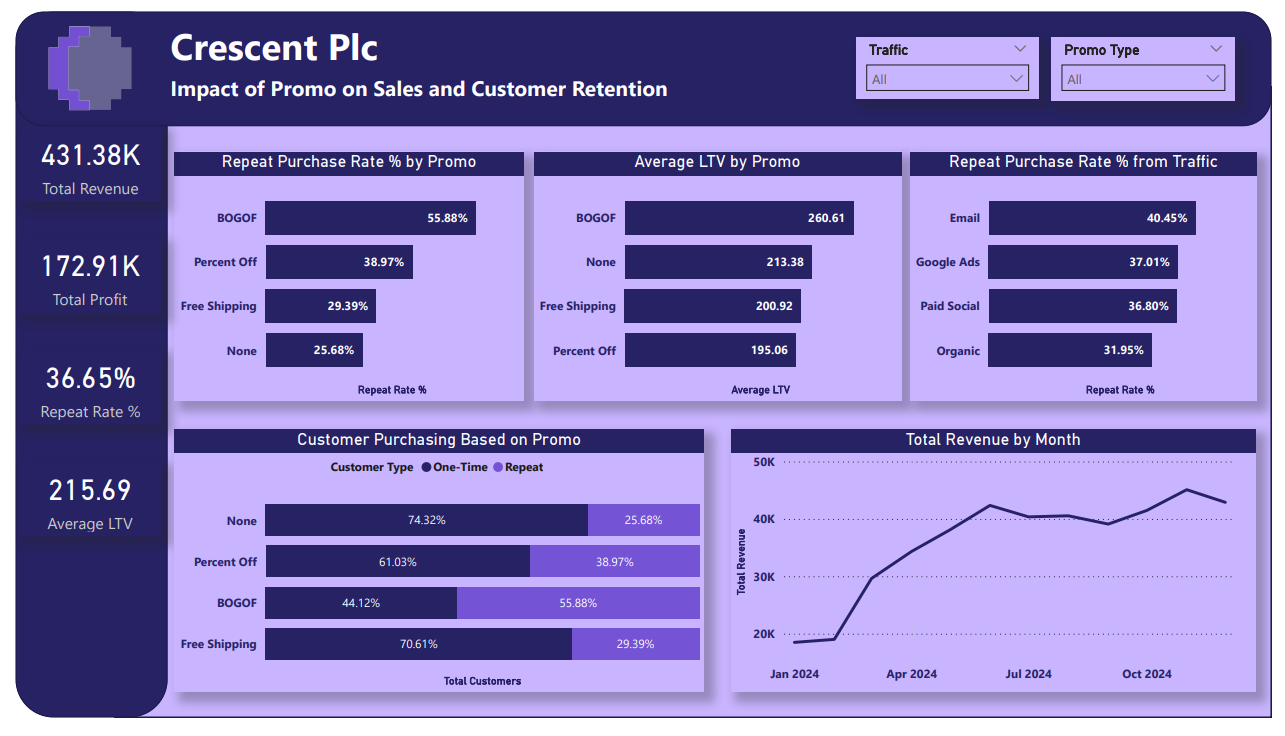

What the dashboard file says about the page in this screenshot:
{"tool":"powerbi","page":{"name":"Crescent Plc Dashboard","canvas":[1280,720],"ordinal":0},"visuals":[{"type":"shape","box":[100.6,76.1,1179.1,644.2],"z":0},{"type":"shape","box":[0,0,154.6,720.2],"z":1000},{"type":"shape","box":[0,0,1279.8,116.6],"z":2000},{"type":"card","fields":{"Values":["Orders.Repeat Rate %"]},"box":[4,343.9,145,77.5],"z":3000},{"type":"card","fields":{"Values":["Orders.Average LTV"]},"box":[2.8,457.7,146.2,77.5],"z":4000},{"type":"clusteredBarChart","title":"Repeat Purchase Rate % by Promo","fields":{"Category":["Customers.AcquisitionPromoType"],"Y":["Orders.Repeat Rate %"]},"box":[162,143.1,355.8,254],"z":5000},{"type":"clusteredBarChart","title":"Average LTV by Promo","fields":{"Category":["Customers.AcquisitionPromoType"],"Y":["Orders.Average LTV"]},"box":[527.6,143.3,375.5,254],"z":6000},{"type":"lineChart","title":"Total Revenue by Month","fields":{"Category":["DateDim.YearMonth"],"Y":["Orders.Total Revenue"]},"box":[728.8,425.8,535,268.7],"z":7000},{"type":"clusteredBarChart","title":"Repeat Purchase Rate % from Traffic","fields":{"Category":["Customers.Channel"],"Y":["Orders.Repeat Rate %"]},"box":[911.7,143.3,353.4,254],"z":8000},{"type":"hundredPercentStackedBarChart","title":"Customer Purchasing Based on Promo","fields":{"Category":["Customers.AcquisitionPromoType"],"Series":["Customers.Customer Type"],"Y":["Orders.Total Customers"]},"box":[162,425.8,539.9,268.7],"z":9000},{"type":"slicer","fields":{"Values":["Customers.Channel"]},"box":[857.4,25.9,185.2,63],"z":10000},{"type":"slicer","fields":{"Values":["Customers.AcquisitionPromoType"]},"box":[1055.6,25.9,187,64.8],"z":11000},{"type":"card","fields":{"Values":["Orders.Total Profit"]},"box":[2.8,230.2,146.2,77.5],"z":12000},{"type":"card","fields":{"Values":["Orders.Total Revenue"]},"box":[4,116.4,145,77.5],"z":13000},{"type":"image","box":[25.7,8,100,100],"z":14000},{"type":"textbox","box":[152.8,3.8,255.8,71.7],"z":15000},{"type":"textbox","box":[152.8,57.8,594.7,43.4],"z":16000}]}

Visuals, with their boxes in screenshot pixels (x1, y1, x2, y2), scaled from the page's 1280x720 canvas onto the 1285x736 screenshot:
shape: 101/78/1284/735
shape: 0/0/155/735
shape: 0/0/1284/119
card - Orders.Repeat Rate %: 4/352/150/431
card - Orders.Average LTV: 3/468/150/547
"Repeat Purchase Rate % by Promo" clusteredBarChart: 163/146/520/406
"Average LTV by Promo" clusteredBarChart: 530/146/907/406
"Total Revenue by Month" lineChart: 732/435/1269/710
"Repeat Purchase Rate % from Traffic" clusteredBarChart: 915/146/1270/406
"Customer Purchasing Based on Promo" hundredPercentStackedBarChart: 163/435/705/710
slicer - Customers.Channel: 861/26/1047/91
slicer - Customers.AcquisitionPromoType: 1060/26/1247/93
card - Orders.Total Profit: 3/235/150/315
card - Orders.Total Revenue: 4/119/150/198
image: 26/8/126/110
textbox: 153/4/410/77
textbox: 153/59/750/103
